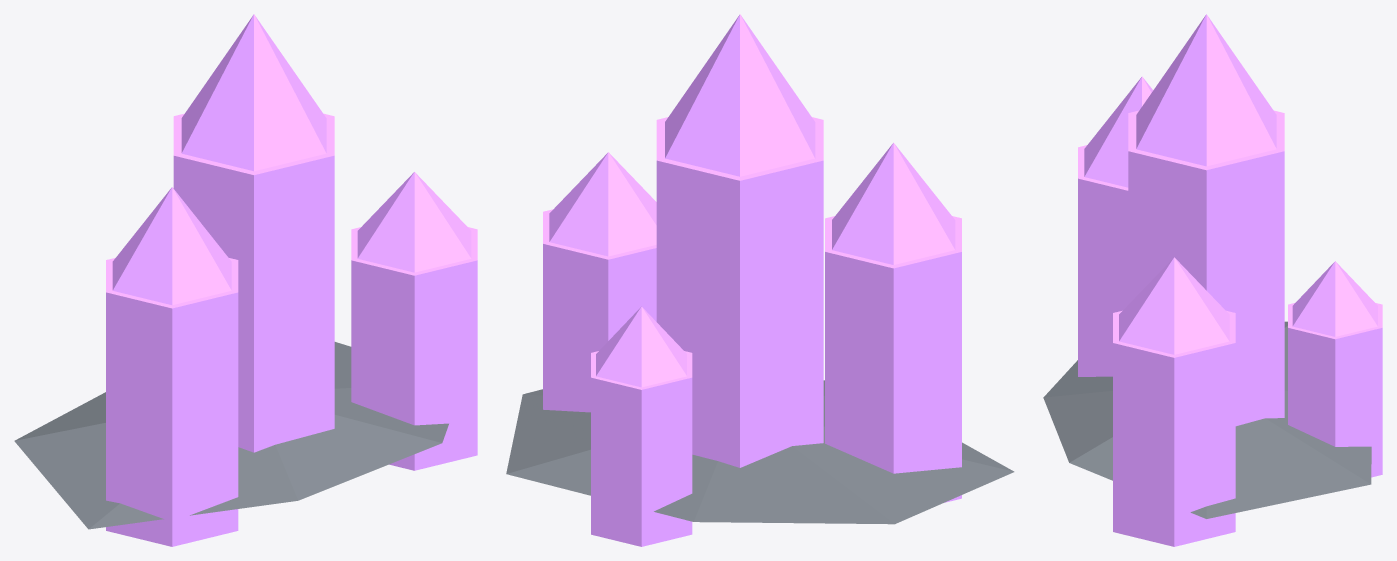
The model's file is cave_crystals_purple.glb.
The picture shows the model from 3 angles, left to right: view 1: azimuth 30°, elevation 25°; view 2: azimuth 150°, elevation 25°; view 3: azimuth 270°, elevation 25°; orthographic projection. The views are drawn at different scales.
Visible parts, largest first — view 1: cave_crystals_purple_Mesh; view 2: cave_crystals_purple_Mesh; view 3: cave_crystals_purple_Mesh.
Boxes of the visible parts, <box> form: cave_crystals_purple_Mesh: <box>14,14,477,546</box>; cave_crystals_purple_Mesh: <box>506,14,1014,546</box>; cave_crystals_purple_Mesh: <box>1043,14,1382,546</box>.
Bounding box in the file's own units: 1.48 × 1.5 × 1.05.
